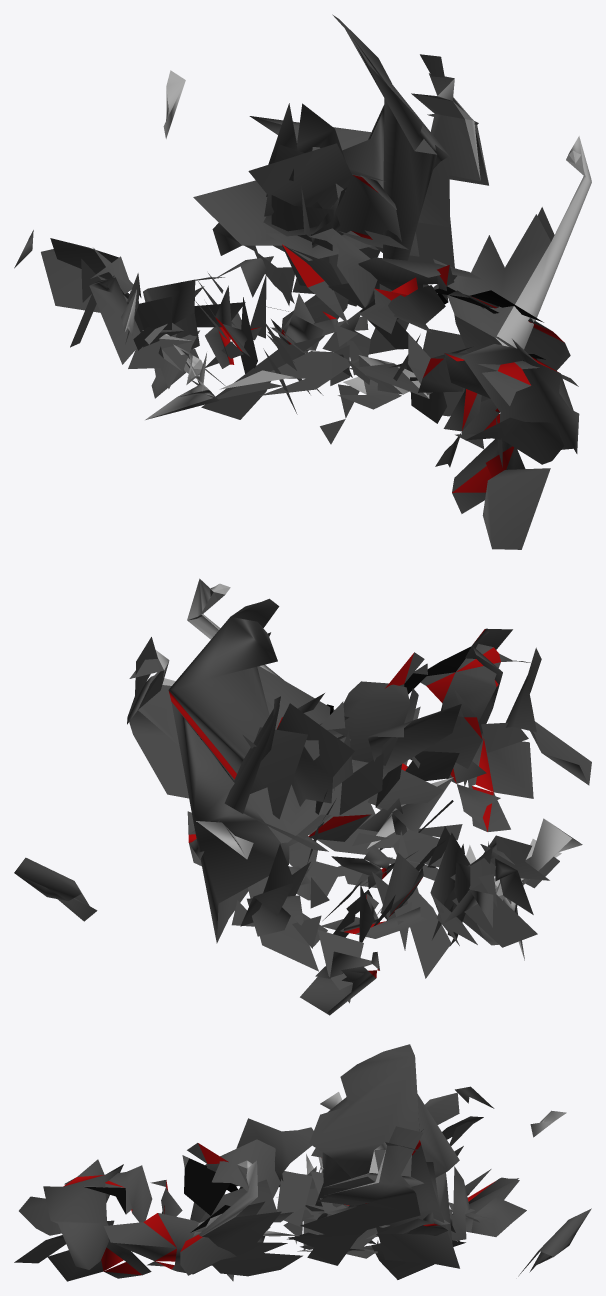
The model's file is spacecraftExplosion_000001.obj.
3 renders of one model, top to bottom at view 1: azimuth 30°, elevation 25°; view 2: azimuth 150°, elevation 25°; view 3: azimuth 270°, elevation 25°, orthographic. The views are drawn at different scales.
Parts seen in each view (by area): view 1: Cube; view 2: Cube; view 3: Cube.
Part boxes in pixels (x1,y1,x2,y2): Cube: (14,14,591,549); Cube: (14,578,591,1015); Cube: (14,1044,591,1281).
Bounding box in the file's own units: 6.69 × 5.05 × 10.2.
